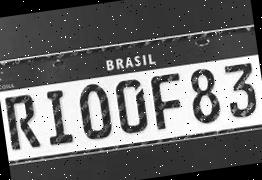placa_mercosul: (0, 25, 262, 165)
